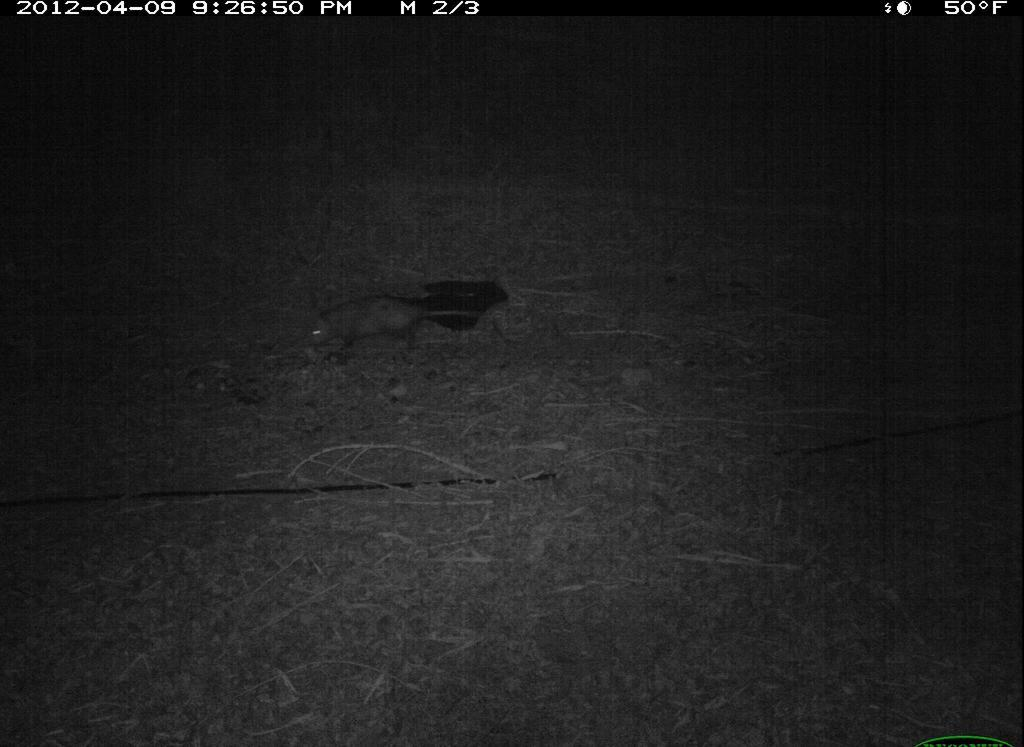opossum: (278, 271, 506, 378)
